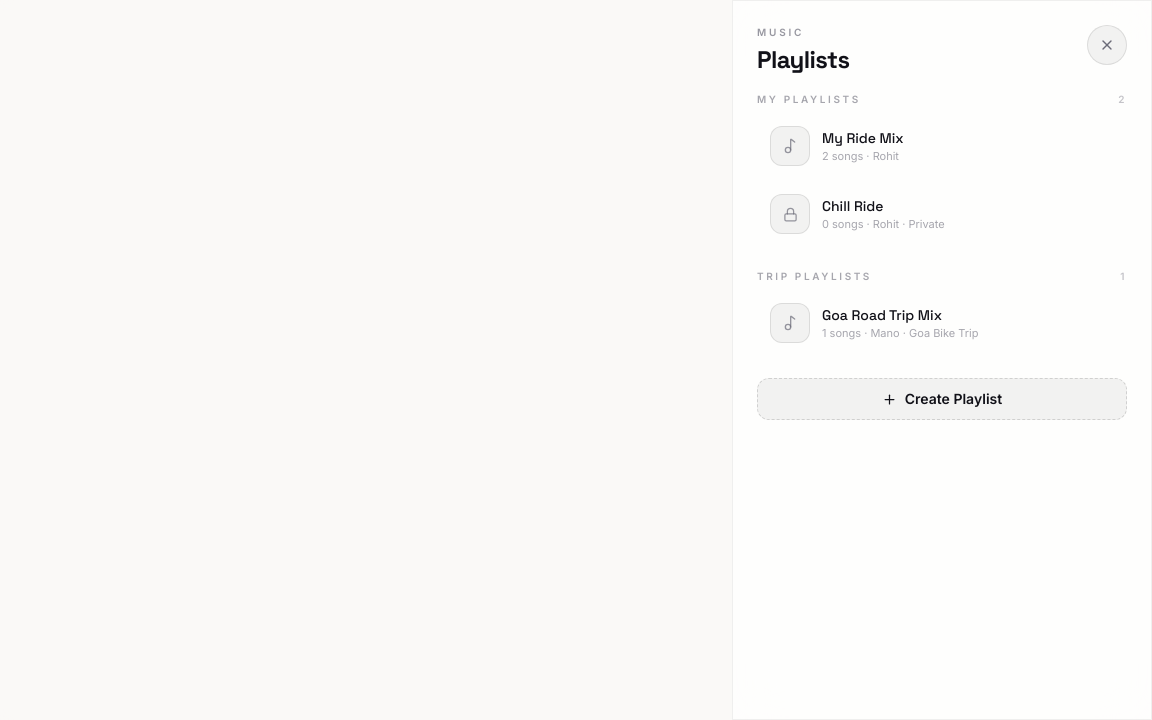
Scenario: PlaylistDrawer › creates a playlist with a trimmed name
Expected: the text "My Ride Mix" is shown, left=822, top=129, right=904, bottom=147
Click the button "Create Playlist": coordinates (942, 399) left=757, top=378, right=1127, bottom=420
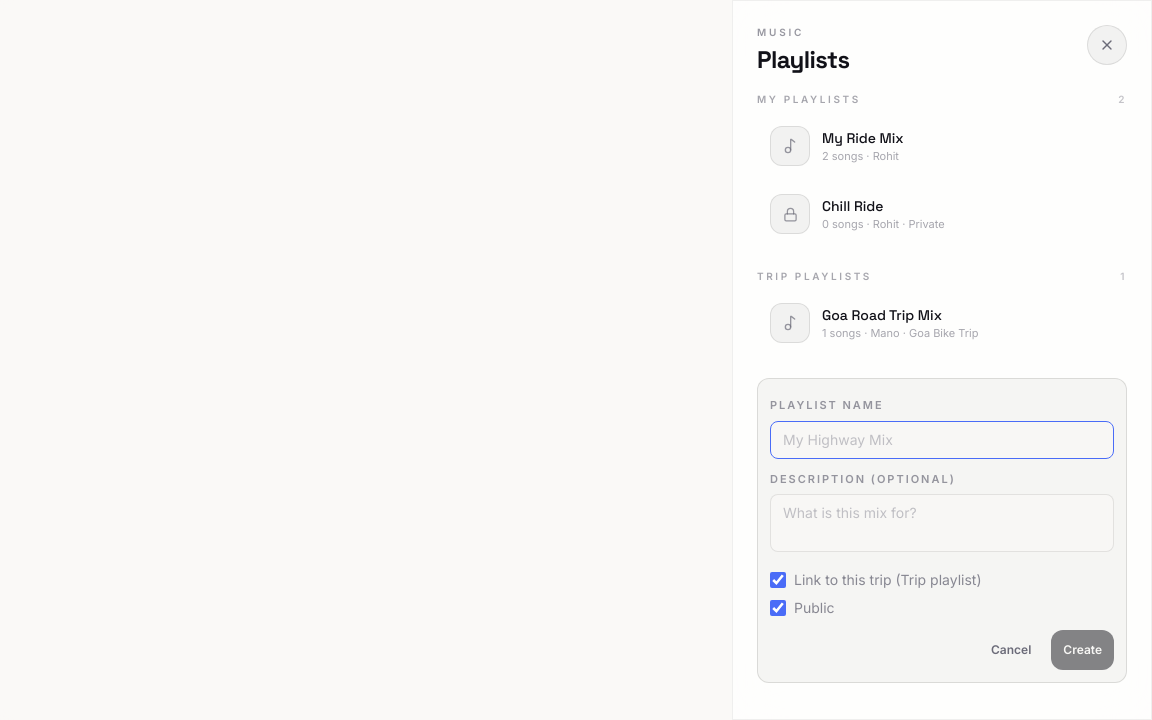
In the field labelled "Playlist name": coordinates (942, 440) left=770, top=421, right=1114, bottom=459, type "  New Mix  "
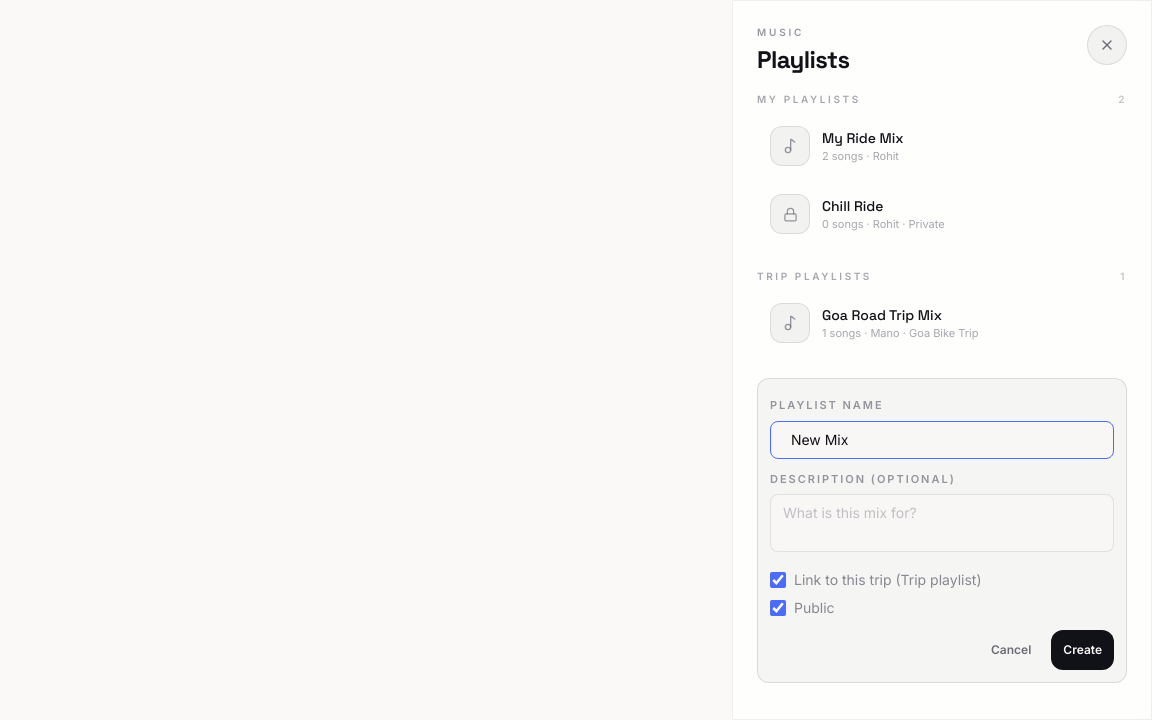
Click the button "Create": coordinates (1083, 650) left=1051, top=630, right=1114, bottom=670
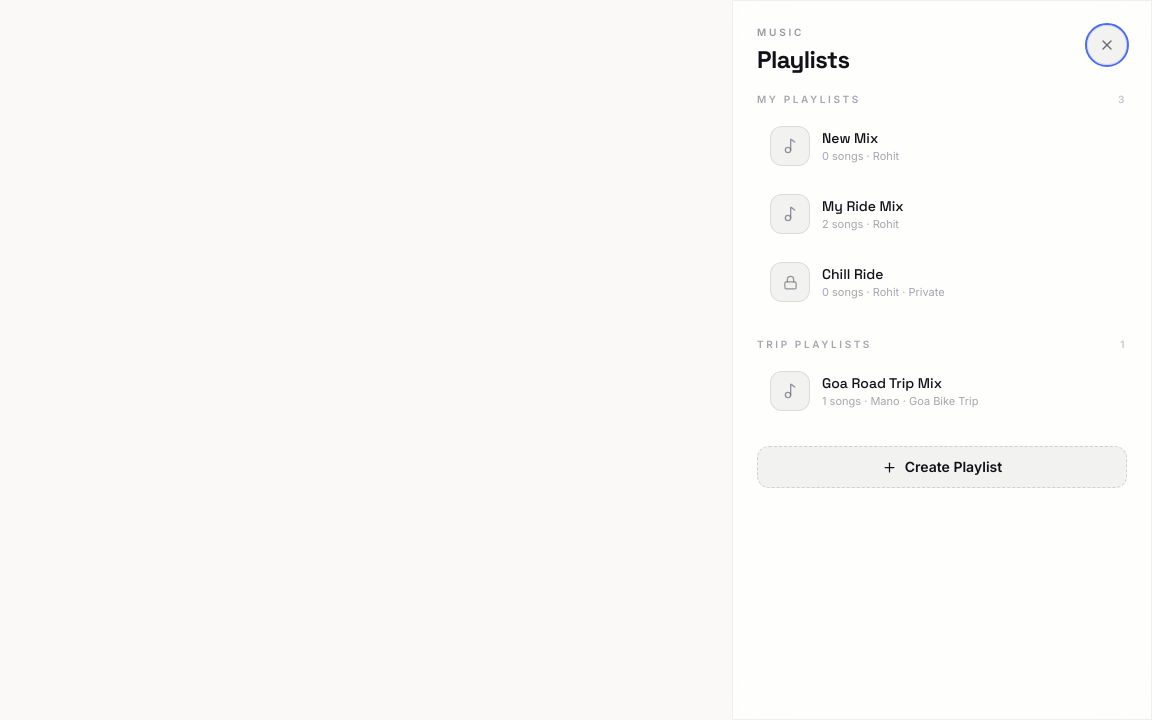
Expected: the text "New Mix" is shown, left=822, top=129, right=878, bottom=147
